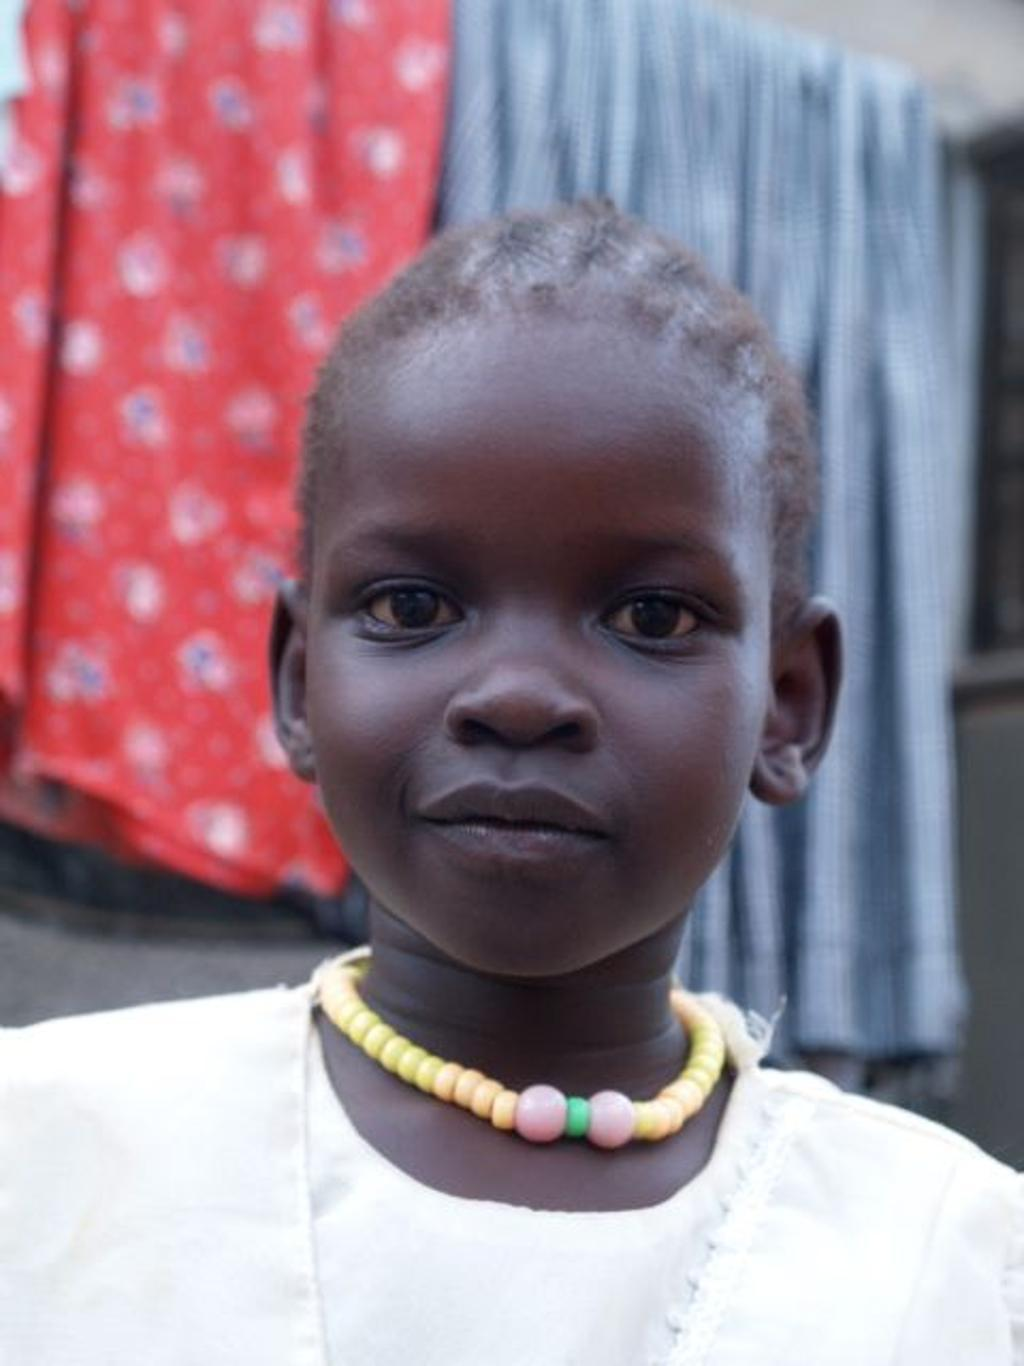face: (308, 316, 775, 977)
